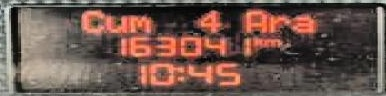0: (146, 61, 173, 85), (175, 34, 200, 56)
1: (129, 61, 147, 85), (235, 35, 248, 55), (113, 34, 124, 56)
3: (153, 34, 175, 56)
4: (193, 8, 222, 33), (184, 62, 213, 83), (200, 35, 226, 55)
5: (213, 60, 239, 85)
6: (126, 35, 151, 56)
X: (77, 8, 104, 33), (240, 9, 266, 33), (124, 14, 151, 33), (291, 14, 315, 33), (267, 14, 289, 33), (104, 13, 124, 33), (173, 64, 184, 81), (262, 37, 280, 47), (248, 34, 262, 46)
